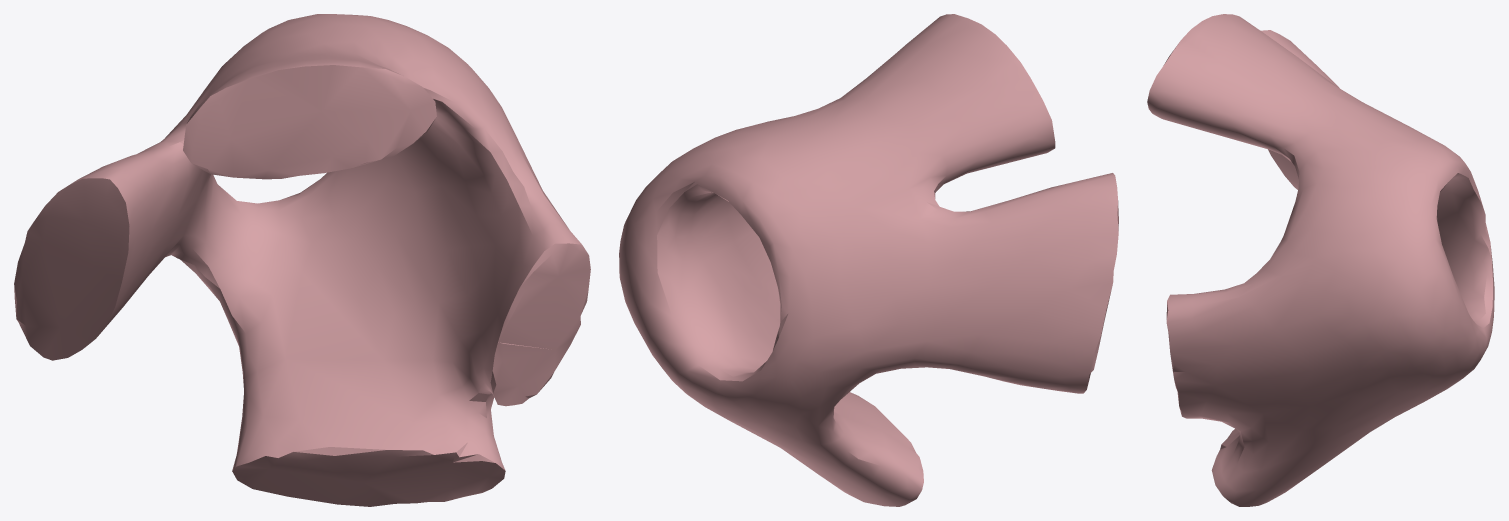
File: fma49072_mm2236m.glb
3 renders of one model, left to right at view 1: azimuth 30°, elevation 25°; view 2: azimuth 150°, elevation 25°; view 3: azimuth 270°, elevation 25°, orthographic. The views are drawn at different scales.
Parts seen in each view (by area): view 1: FMA49072_MM2236M; view 2: FMA49072_MM2236M; view 3: FMA49072_MM2236M.
Boxes of the visible parts, x1,y1,x2,y2 form: FMA49072_MM2236M: [14, 14, 590, 506]; FMA49072_MM2236M: [619, 14, 1118, 506]; FMA49072_MM2236M: [1147, 14, 1494, 506].
Size of the model in its own units: 0.0108 by 0.0103 by 0.00776.
